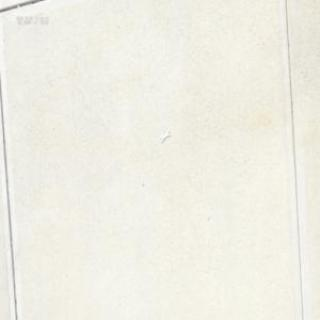Wrenchtrack_idkeyframe: (160, 129, 170, 142)
